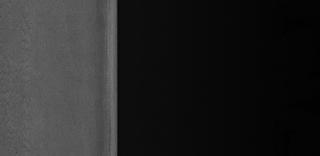silk spot: (6, 14, 44, 128)
